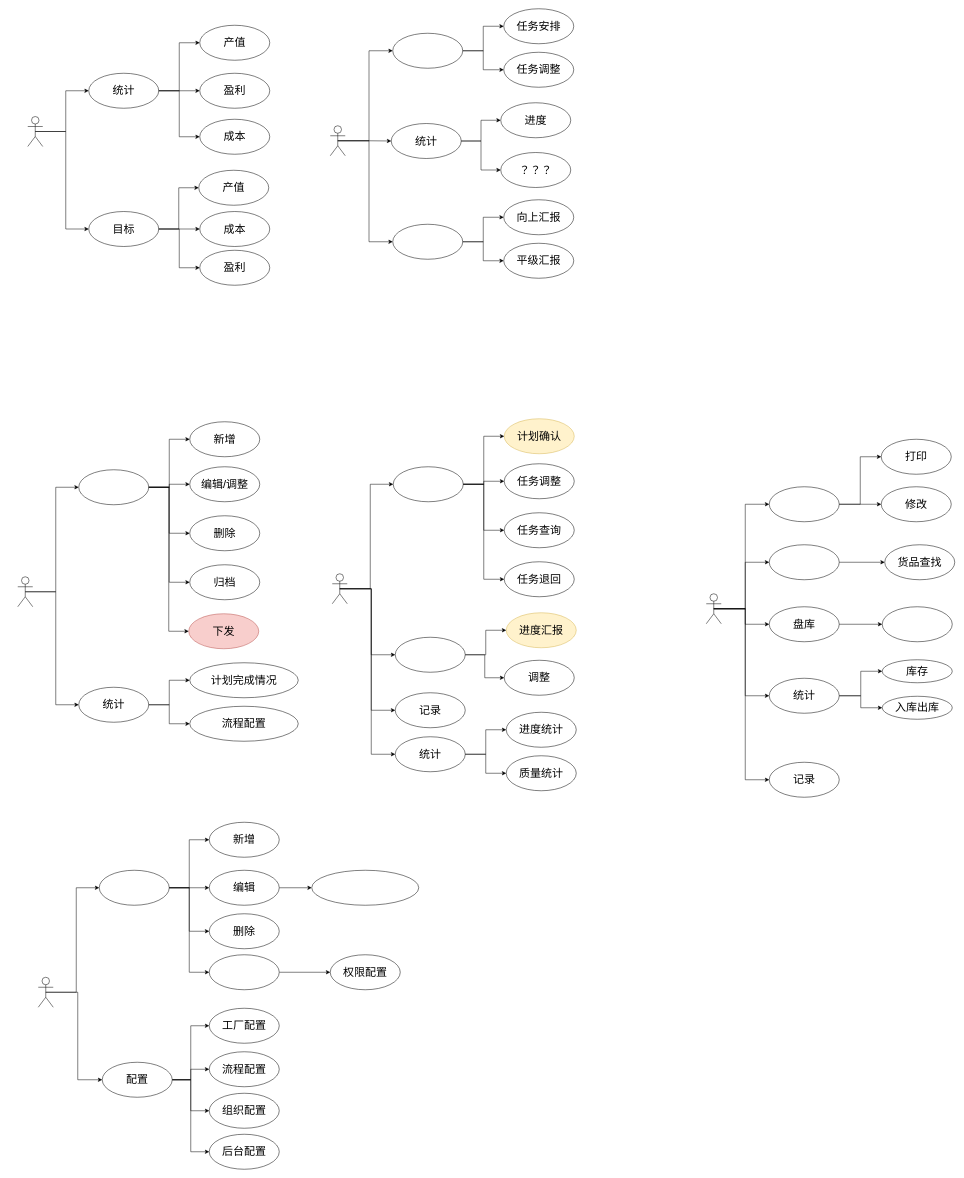
This 964x1178 diagram has some shape labels left out. Each missing label, with the box of its shape:
信息修正: (882, 606, 952, 642)
入库、出库: (769, 486, 839, 522)
分管领导: (330, 125, 345, 156)
库存管理: (769, 544, 839, 580)
库房管理员: (706, 593, 721, 624)
报工: (395, 637, 465, 672)
接工: (393, 466, 463, 502)
权限: (209, 954, 279, 990)
汇报: (392, 224, 463, 259)
派发: (392, 33, 463, 68)
管理员: (38, 977, 53, 1007)
计划员: (17, 576, 33, 607)
计划维护: (78, 469, 149, 505)
账户: (99, 870, 169, 905)
车间主任 班组长: (332, 573, 347, 604)
重置密码、账户: (311, 870, 419, 905)
顶层领导: (27, 116, 43, 146)
